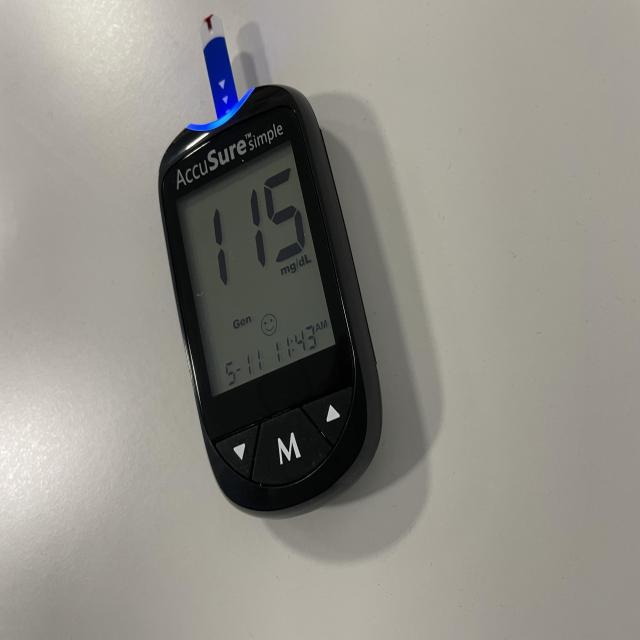gluco: (156, 38, 382, 517)
